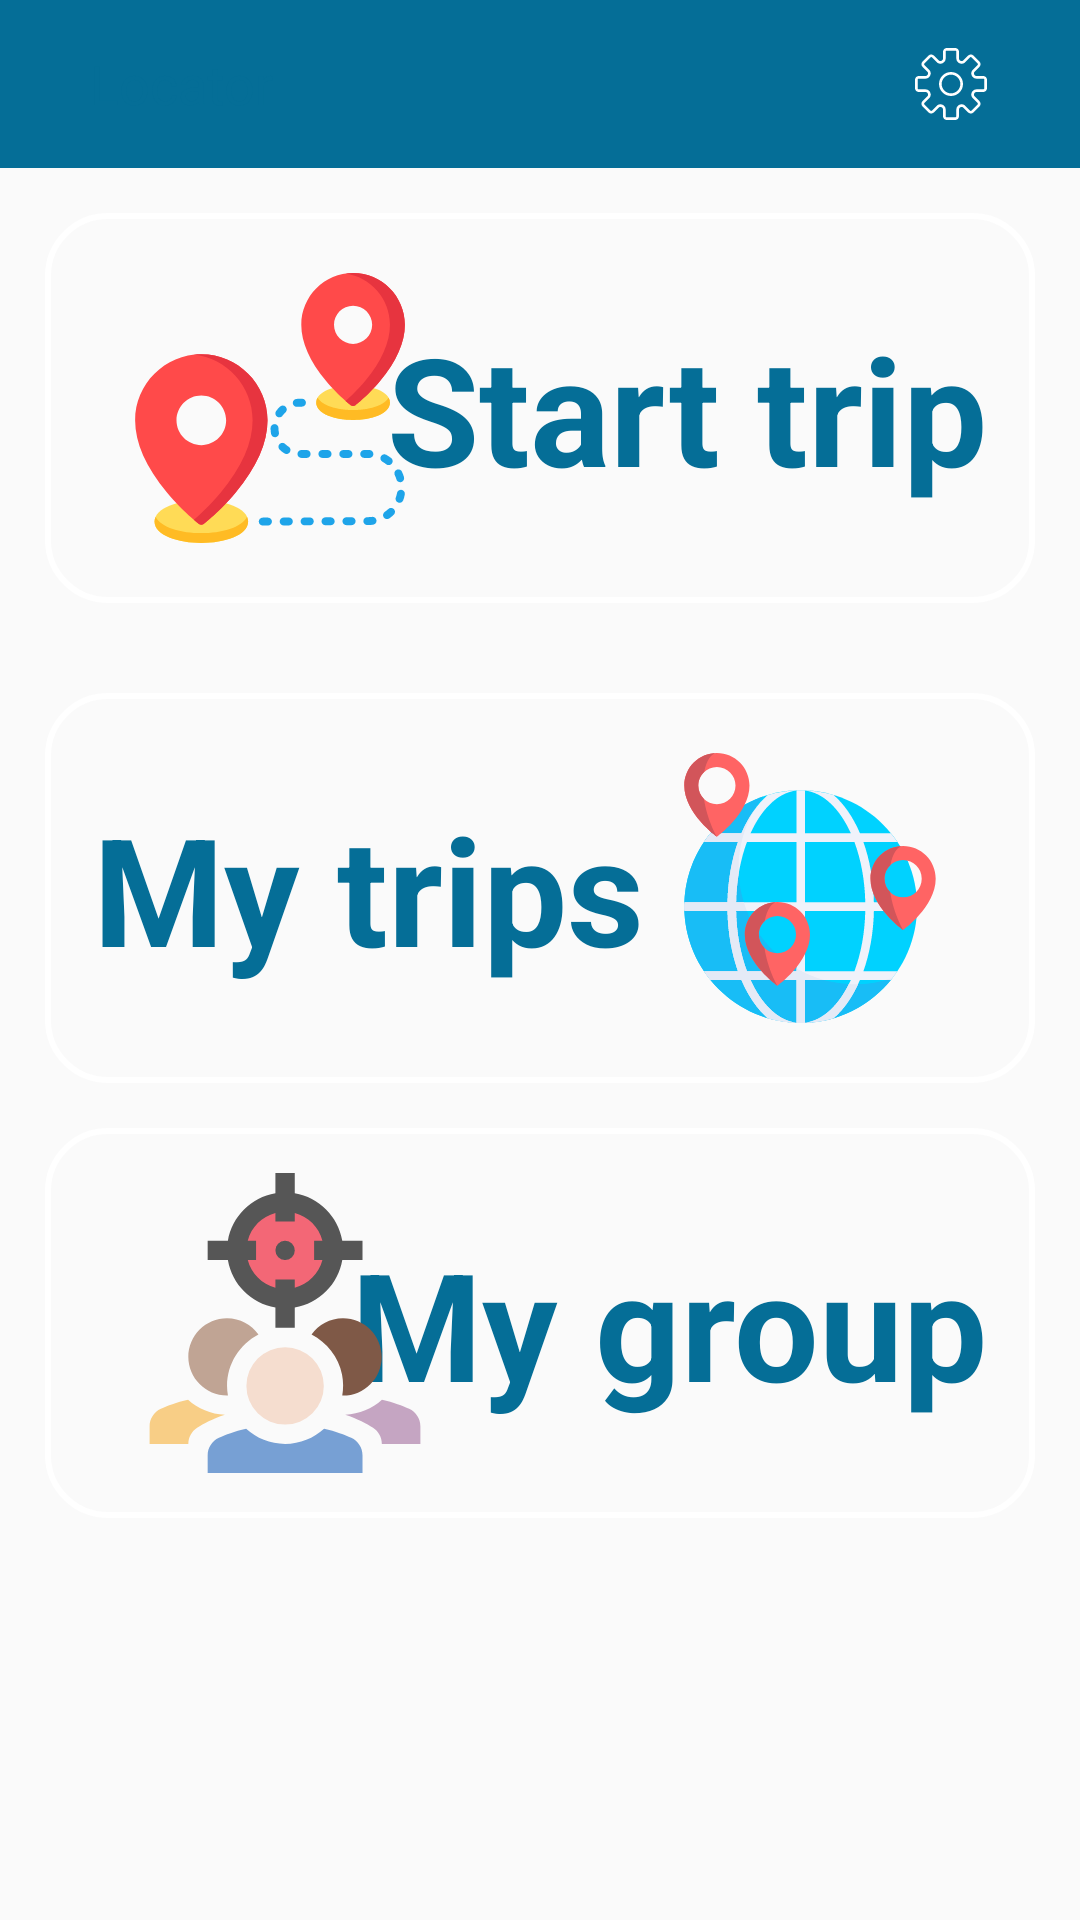

Where icons sit on this 1080px×1920px app screen, as [x1, y1, x2, y2]:
destination: [135, 273, 405, 543]
maps and flags: [684, 753, 936, 1023]
settings: [915, 48, 987, 120]
target group: [149, 1173, 421, 1473]
